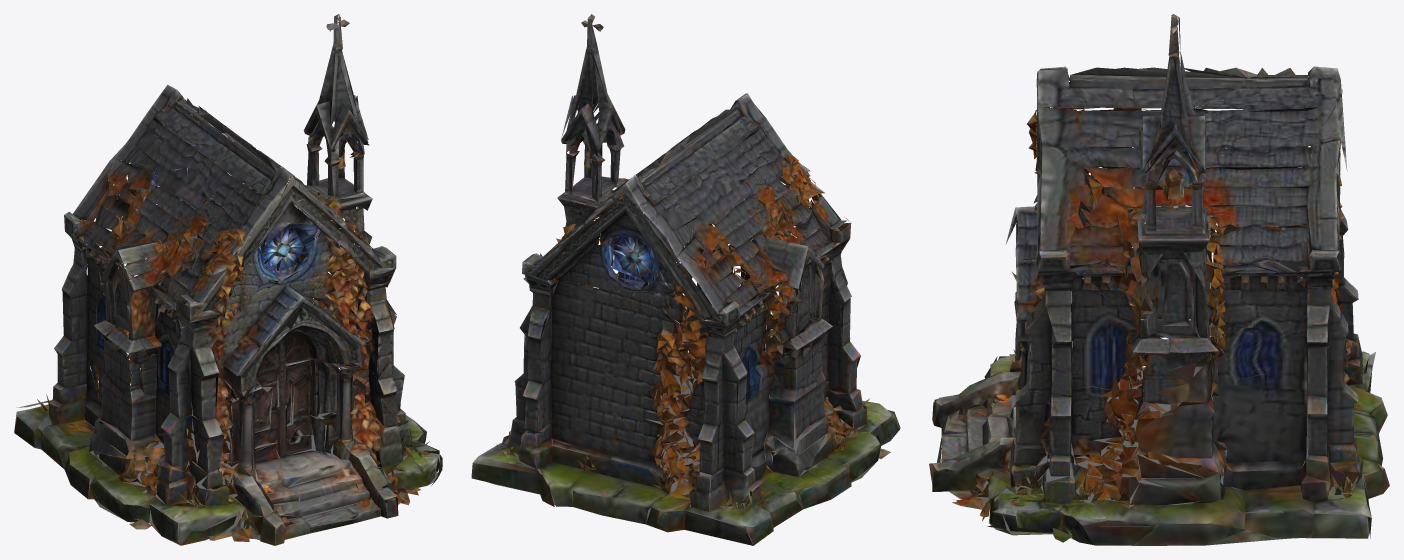
Rendered from chapel.glb.
3 views of the same model, side by side, from view 1: azimuth 30°, elevation 25°; view 2: azimuth 150°, elevation 25°; view 3: azimuth 270°, elevation 25° (orthographic). The views are drawn at different scales.
Parts seen in each view (by area): view 1: Mesh_0; view 2: Mesh_0; view 3: Mesh_0.
Boxes of the visible parts, x1,y1,x2,y2 form: Mesh_0: (14, 14, 442, 545); Mesh_0: (471, 14, 900, 545); Mesh_0: (929, 14, 1389, 545).
Size of the model in its own units: 1.46 by 1.92 by 1.58.
1 material, 1 textured.
